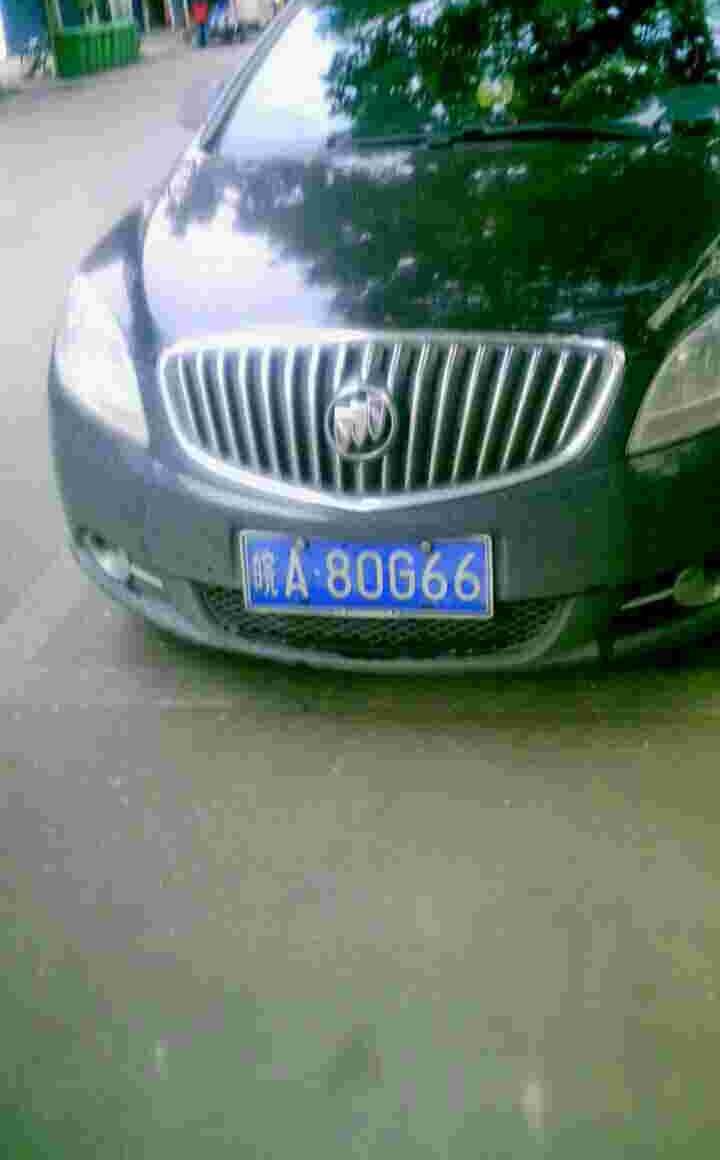license_plate: (263, 535, 495, 617)
